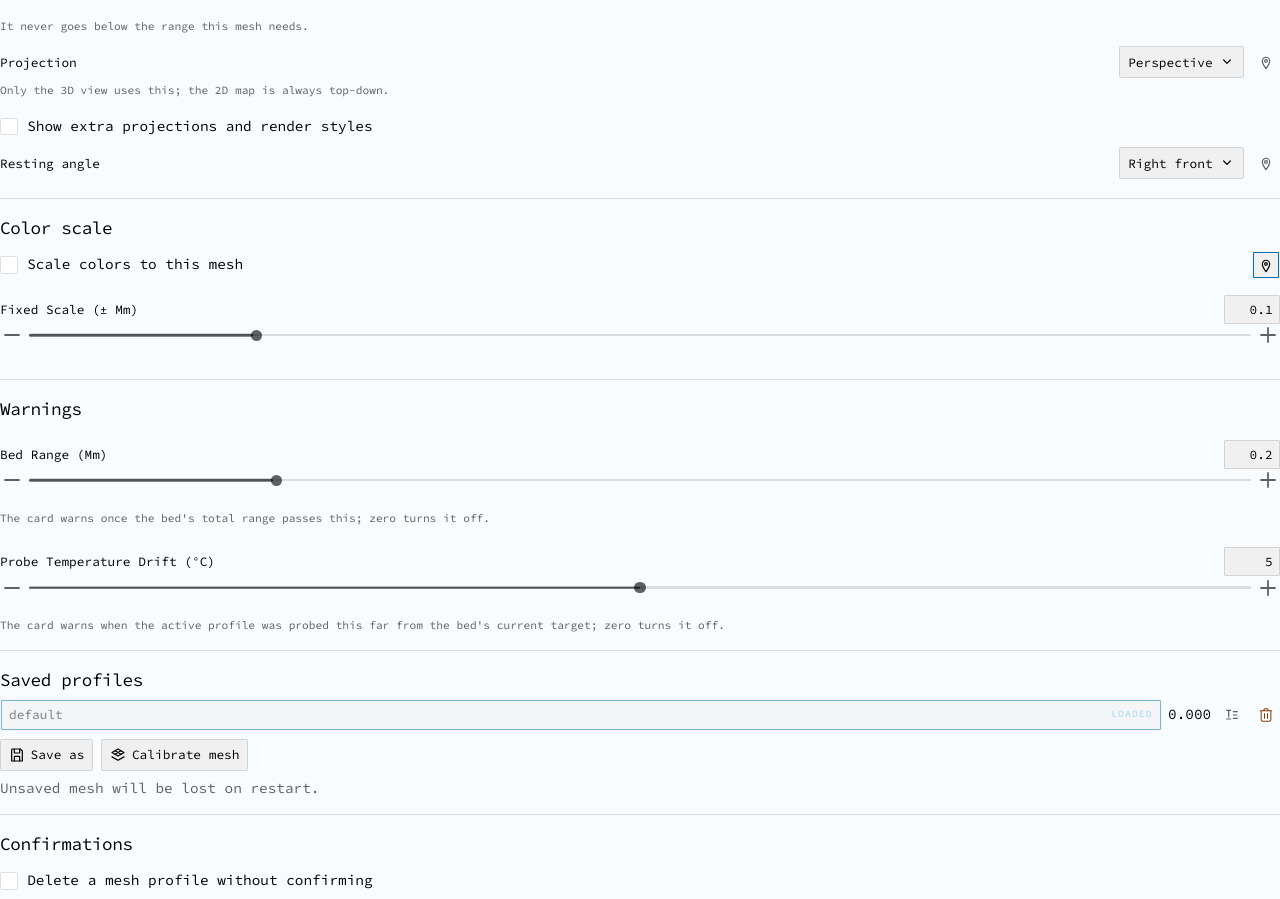
BedMeshSettingsPane › suggests a numbered variant rather than defaulting onto an existing profile
(page scrolled)
Click the button "Save as" at (47, 754), box [0, 738, 93, 770]
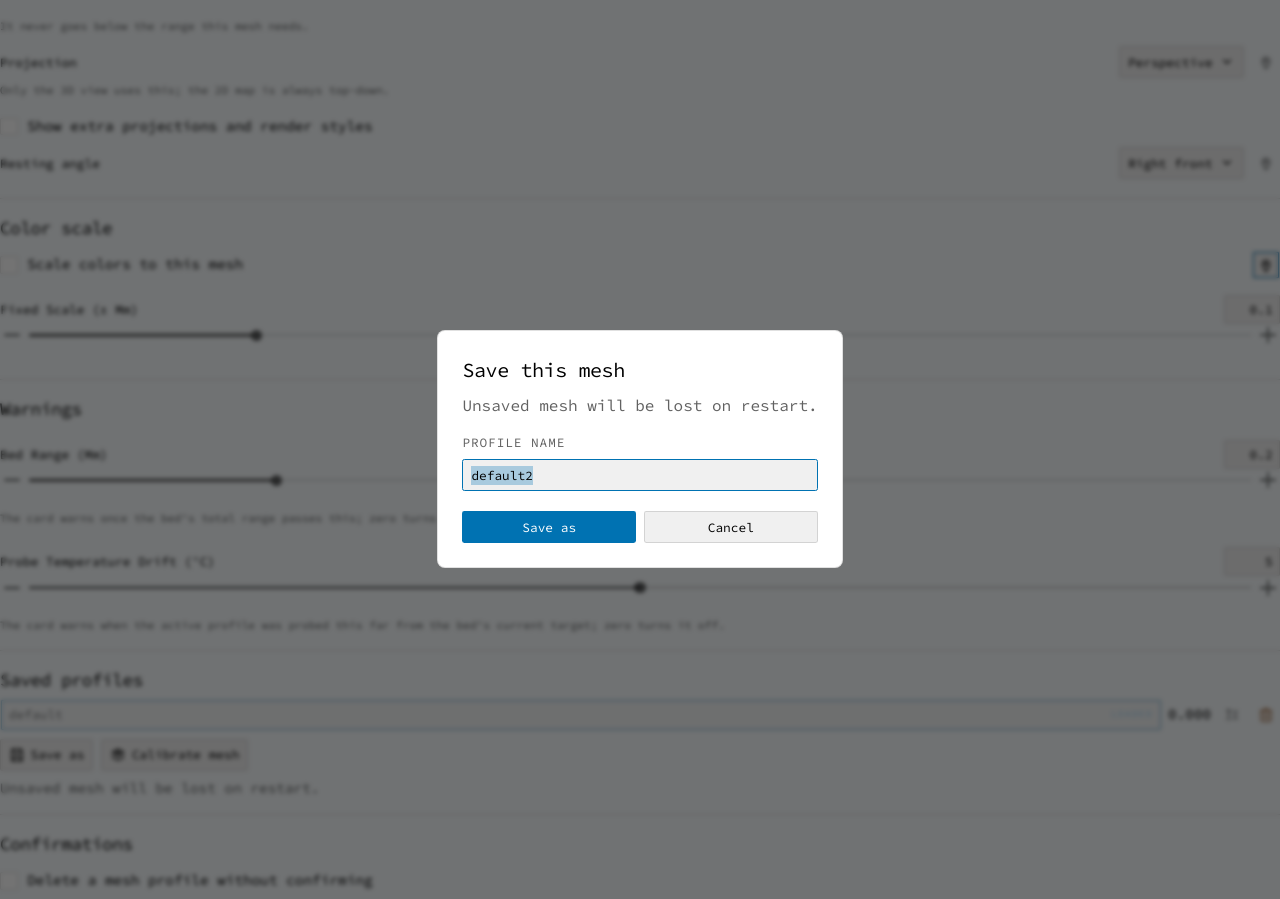
Result: the field labelled "Profile name" holds "default2" at [462, 459, 818, 491]
